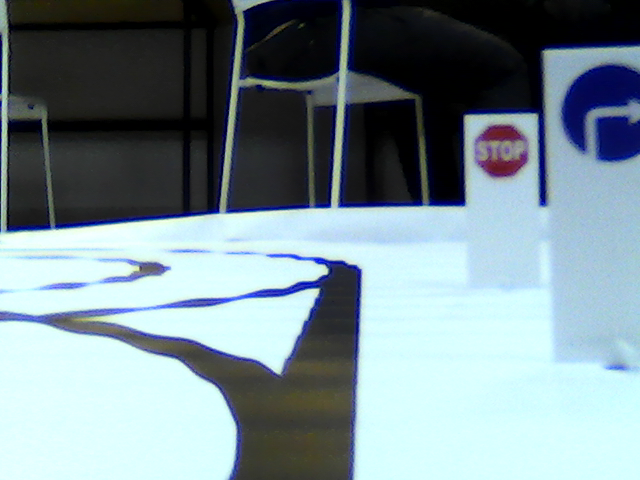Right: (563, 64, 636, 164)
Stop: (478, 124, 527, 177)
